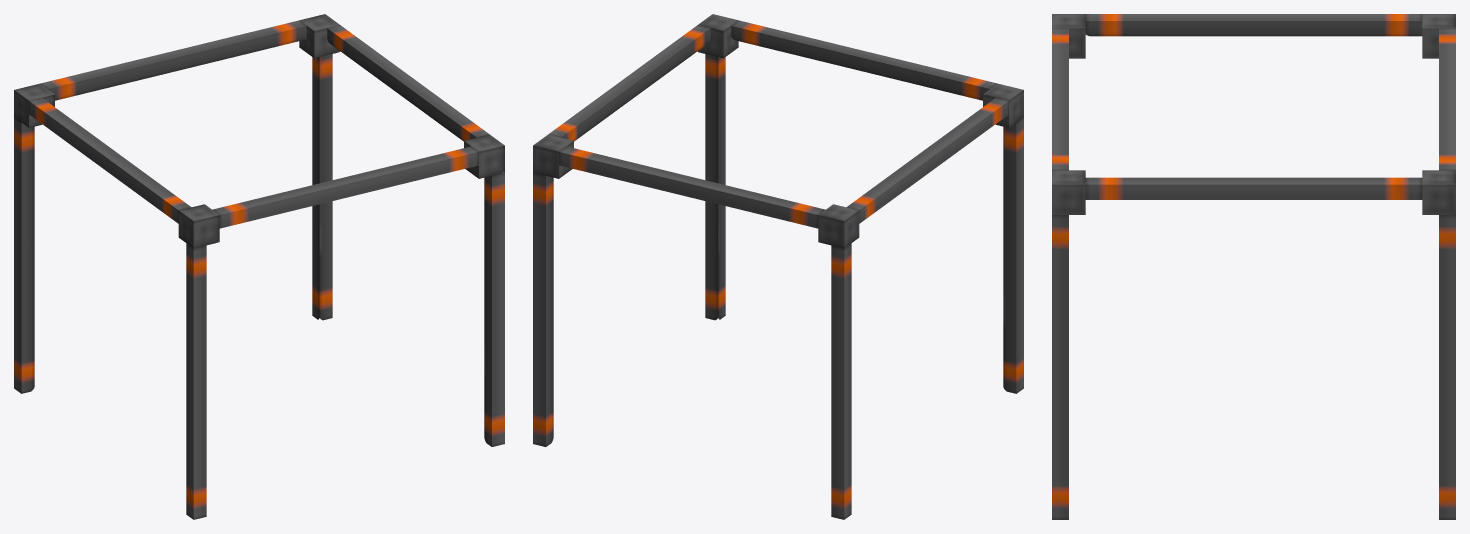
The model's file is chemical_plant_frame.obj.
The picture shows the model from 3 angles, left to right: view 1: azimuth 30°, elevation 25°; view 2: azimuth 150°, elevation 25°; view 3: azimuth 270°, elevation 25°; orthographic projection. The views are drawn at different scales.
Parts seen in each view (by area): view 1: Frame; view 2: Frame; view 3: Frame.
Part boxes in pixels (x1,y1,x2,y2): Frame: [14, 14, 504, 519]; Frame: [533, 14, 1023, 519]; Frame: [1052, 14, 1455, 519].
Bounding box in the file's own units: 3 × 2.75 × 3.
